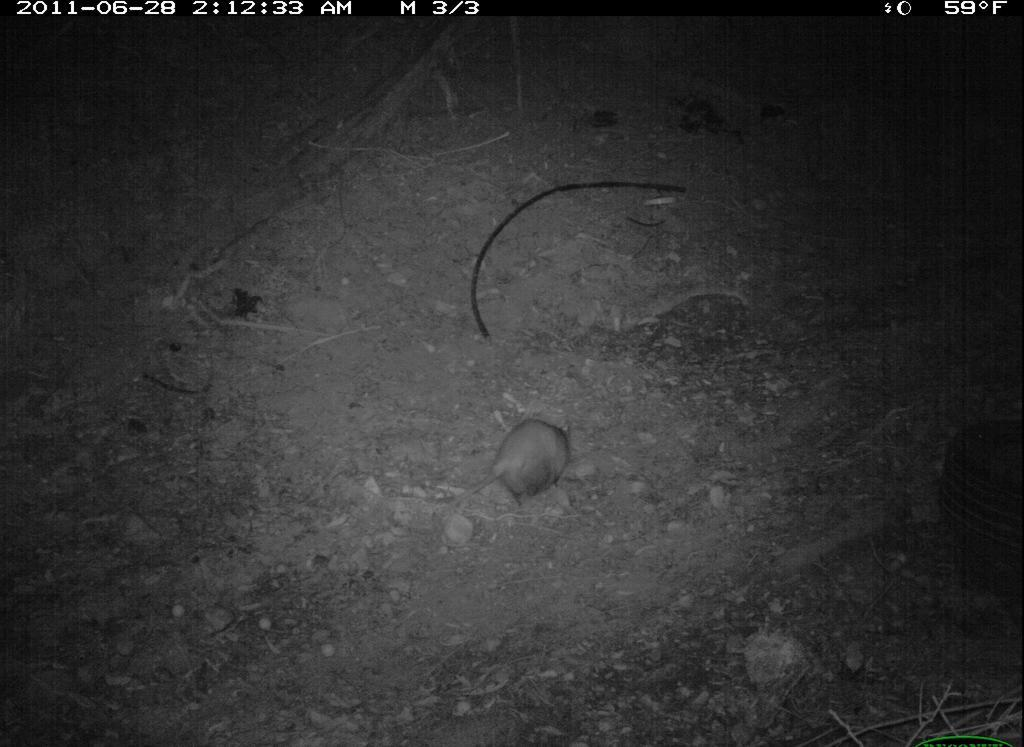opossum: (442, 395, 578, 532)
